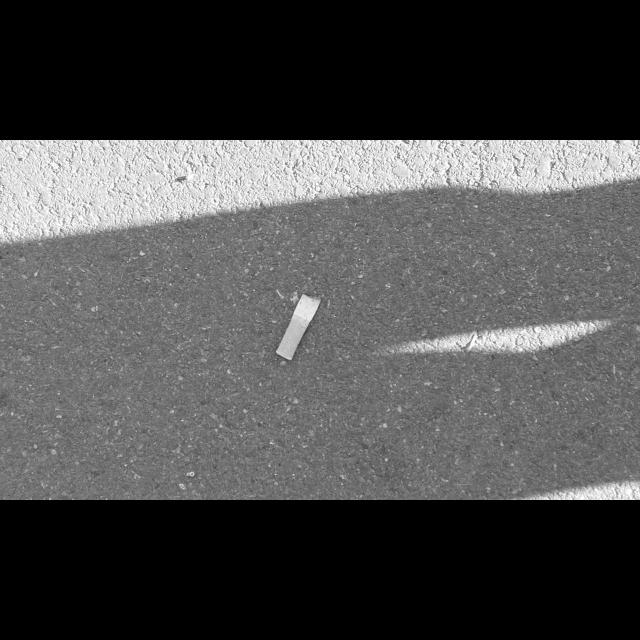cigarette: (275, 293, 322, 360)
